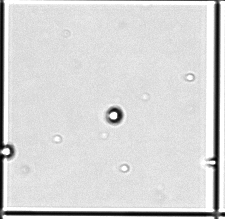Living Cell: (105, 106, 123, 124), (1, 144, 14, 159)
